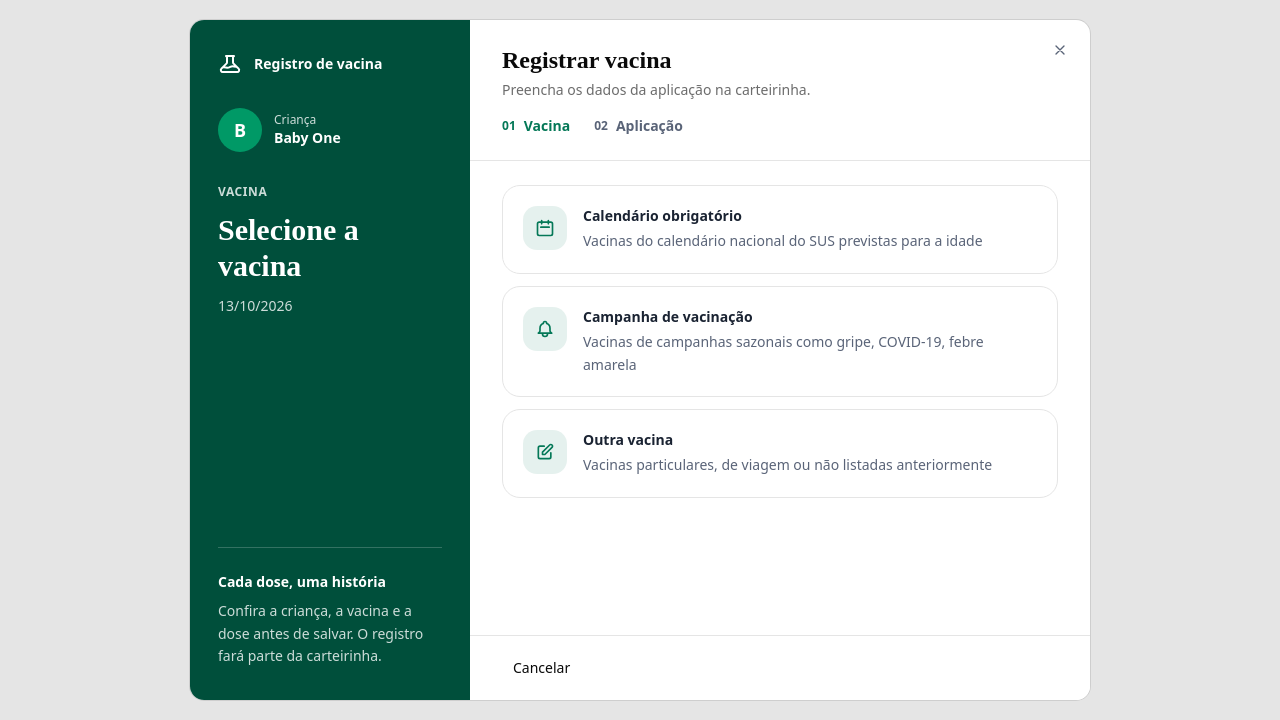
Scenario: RegisterVaccineDialog › advances to the selection step as soon as a type is chosen
Expected: the button "Continuar" is not shown
Click the text "Calendário obrigatório" at {"x": 662, "y": 216}, box [583,206,742,225]
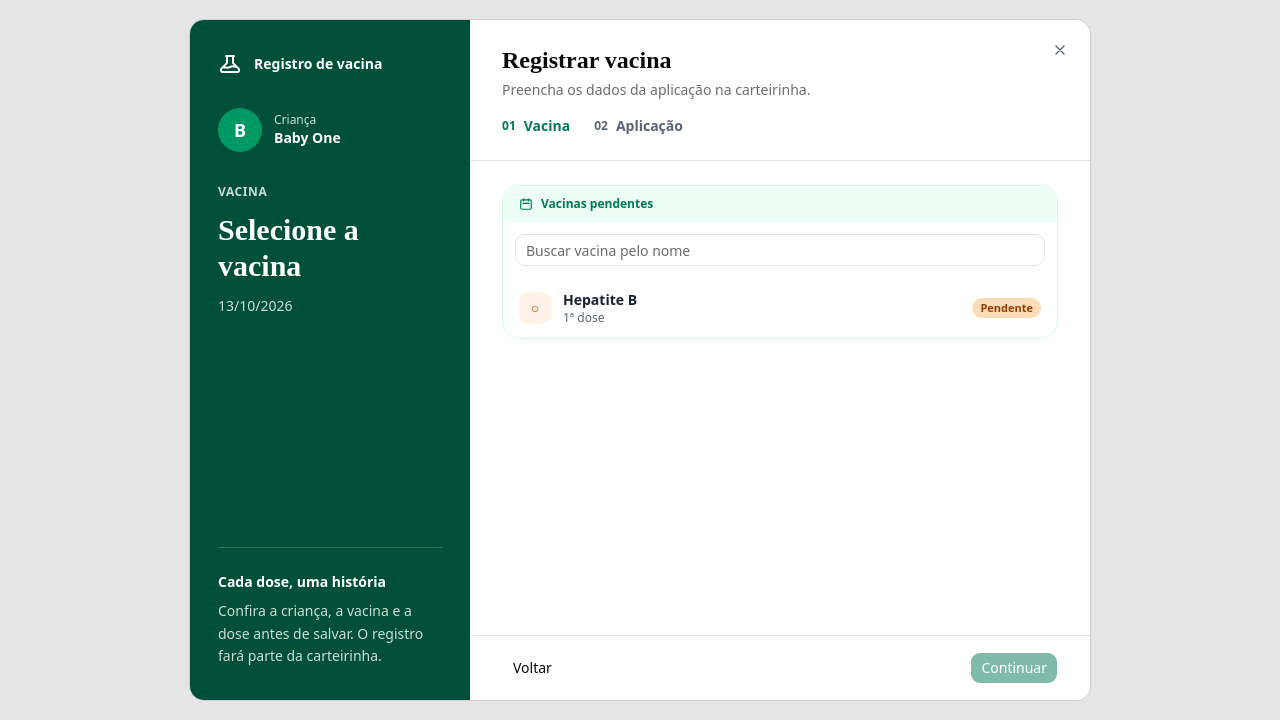
Now the text "Hepatite B" is shown, box [563,290,637,309]
Now the button "Campanha de vacinação" is gone
